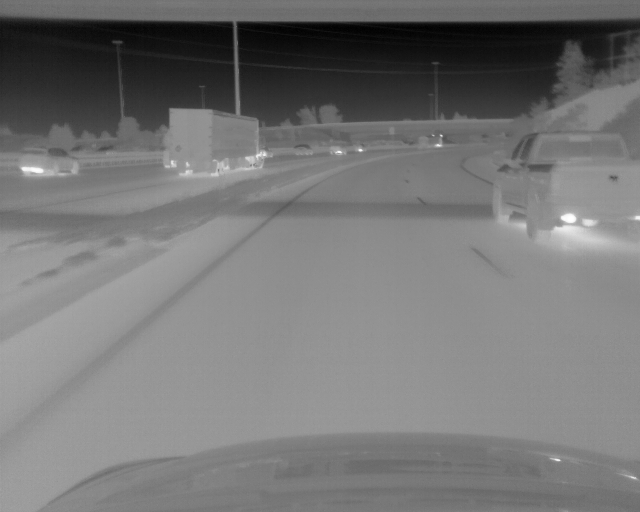car: (490, 132, 640, 243), (169, 107, 264, 177), (18, 146, 80, 177), (417, 134, 443, 148), (162, 149, 177, 170), (329, 139, 347, 156), (293, 144, 314, 156), (260, 147, 274, 160), (354, 143, 365, 153)
